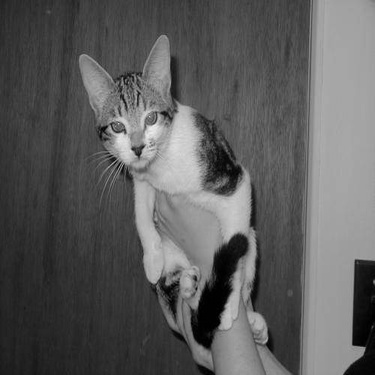cat: (74, 32, 270, 347)
